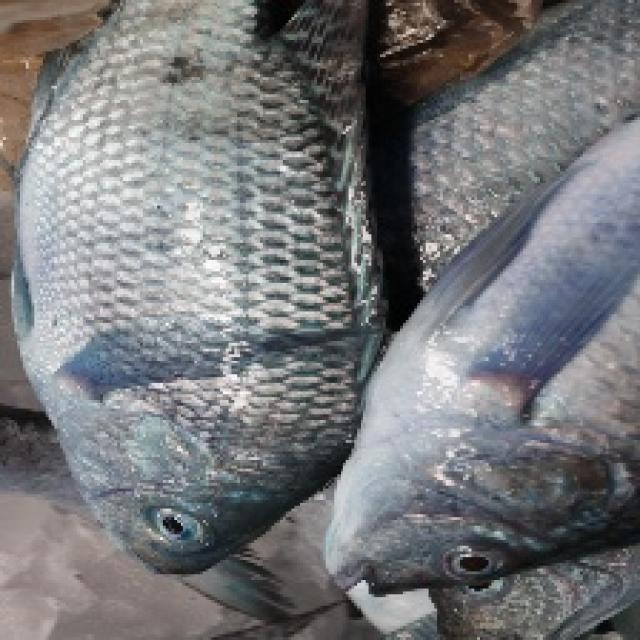Fresh: (30, 73, 334, 597), (321, 156, 640, 633)
